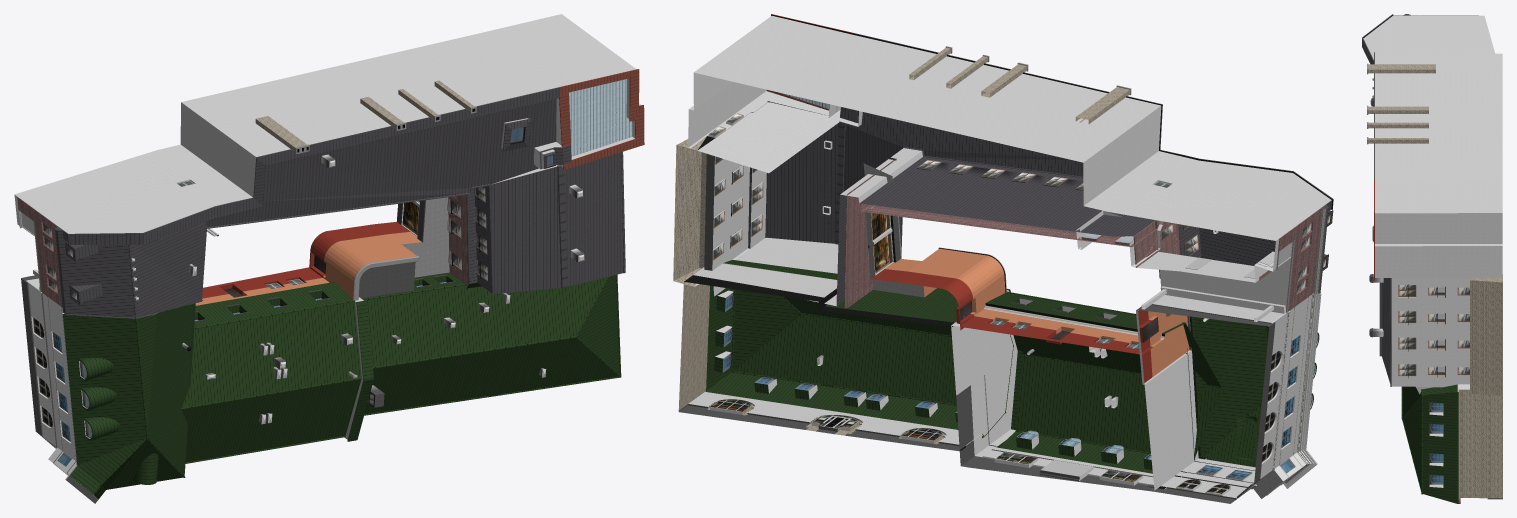
The model's file is Aia_10.obj.
The picture shows the model from 3 angles, left to right: view 1: azimuth 30°, elevation 25°; view 2: azimuth 150°, elevation 25°; view 3: azimuth 270°, elevation 25°; orthographic projection. The views are drawn at different scales.
Parts seen in each view (by area): view 1: Aia_10; view 2: Aia_10; view 3: Aia_10.
Boxes of the visible parts, x1,y1,x2,y2 form: Aia_10: (14,14,644,503); Aia_10: (673,14,1333,503); Aia_10: (1362,14,1502,503).
Size of the model in its own units: 60.16 by 34.34 by 15.06.
